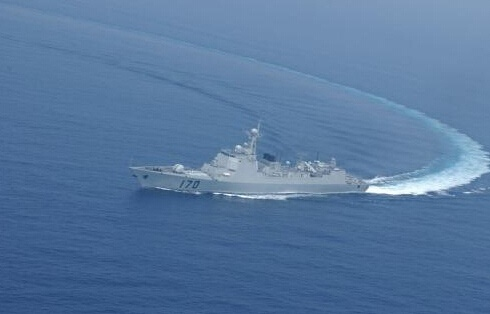warship: (126, 121, 373, 196)
